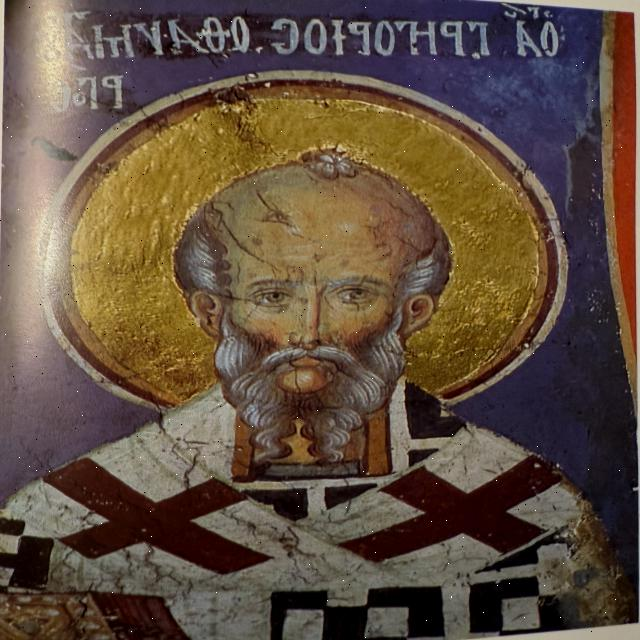aura: (34, 69, 570, 429)
church_father: (3, 63, 640, 640)
